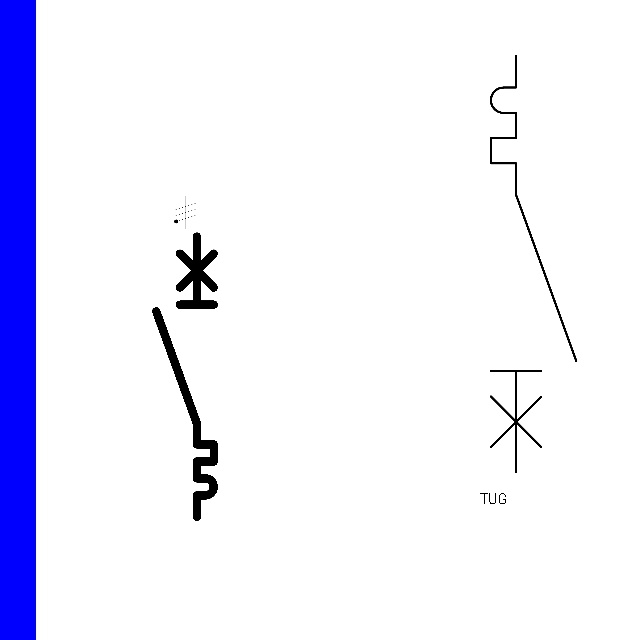interruptor_termomagnetico: (480, 45, 587, 482), (149, 229, 221, 524)
